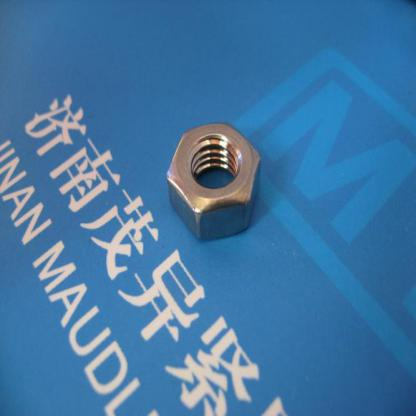FOD: (166, 119, 262, 245)
